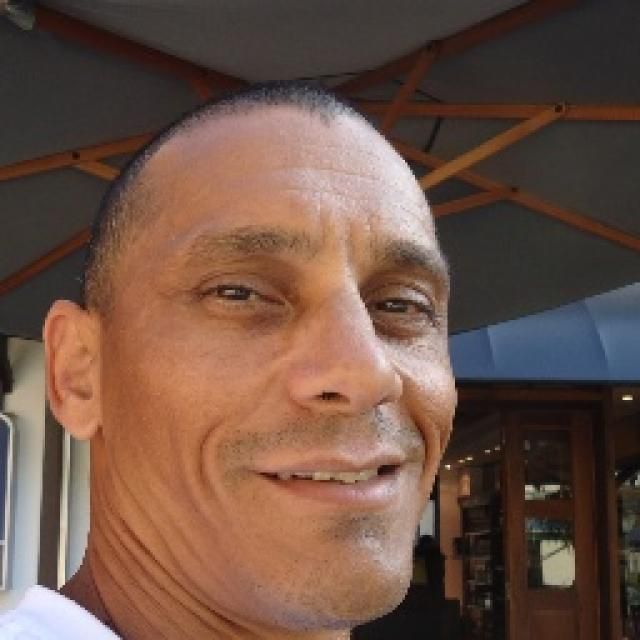earlobe: (44, 297, 108, 443)
